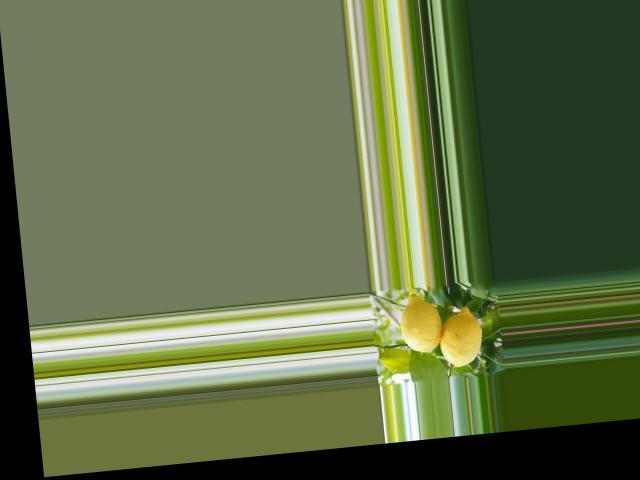lemon: (393, 292, 447, 359)
